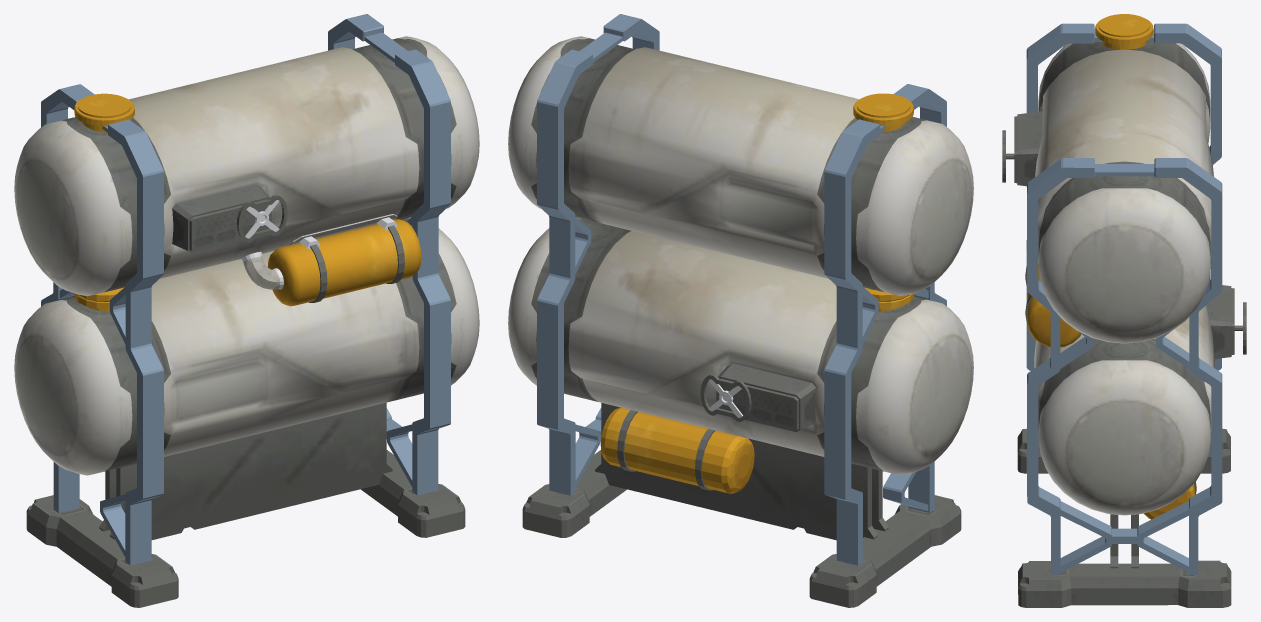
Rendered from Demo_datong02.FBX.
3 renders of one model, left to right at view 1: azimuth 30°, elevation 25°; view 2: azimuth 150°, elevation 25°; view 3: azimuth 270°, elevation 25°, orthographic. The views are drawn at different scales.
Visible parts, largest first — view 1: Demo_datong02; view 2: Demo_datong02; view 3: Demo_datong02.
Part boxes in pixels (bbox=[...]): Demo_datong02: bbox=[14, 14, 479, 607]; Demo_datong02: bbox=[508, 14, 973, 607]; Demo_datong02: bbox=[1002, 14, 1246, 607].
Size of the model in its own units: 4.86 by 5.13 by 2.59.
